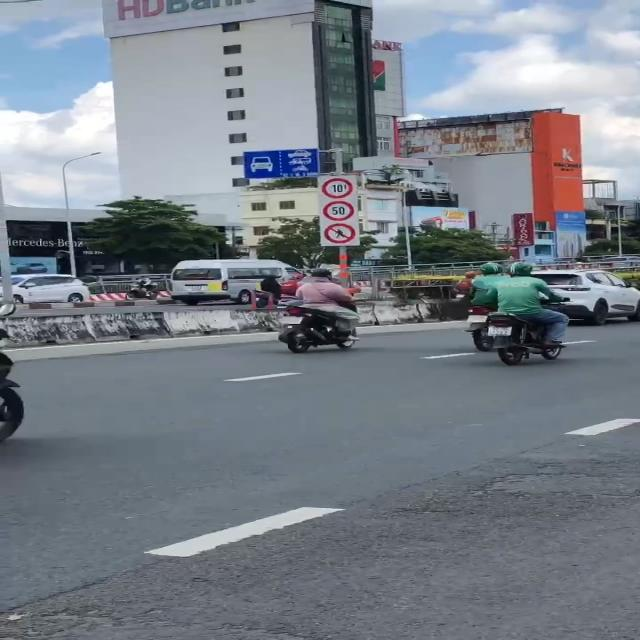Bien bao cam nguoi di bo: (324, 221, 360, 246)
Bien bao toc do toi da cho phep: (320, 200, 356, 222)
